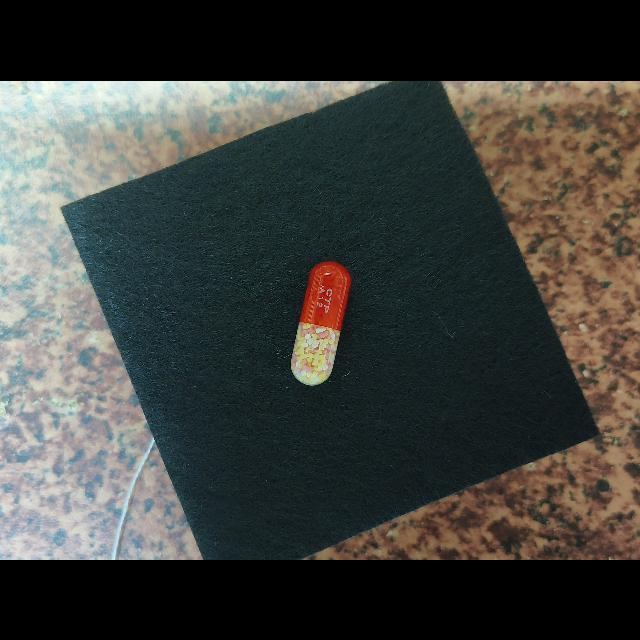Intact Capsule: (291, 261, 351, 385)
